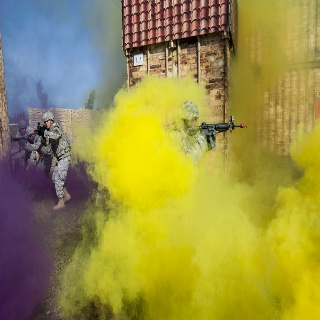rifle: (185, 114, 248, 151)
